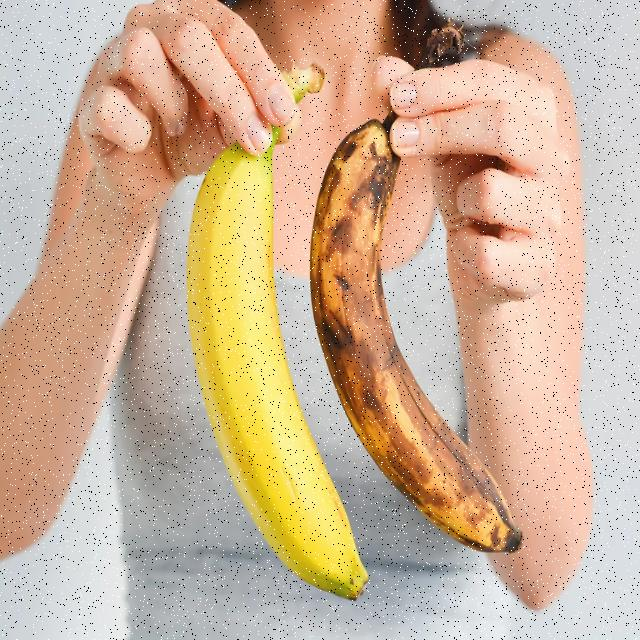Banana: (285, 30, 547, 586), (170, 29, 372, 632)
